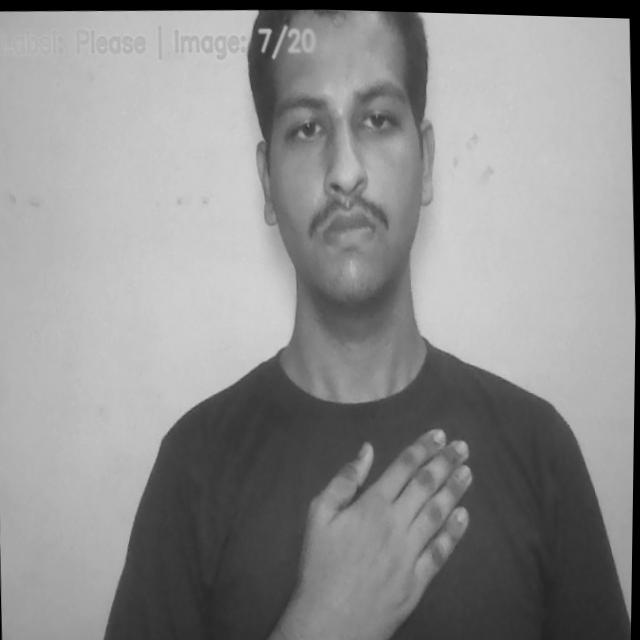Please: (272, 423, 497, 640)
